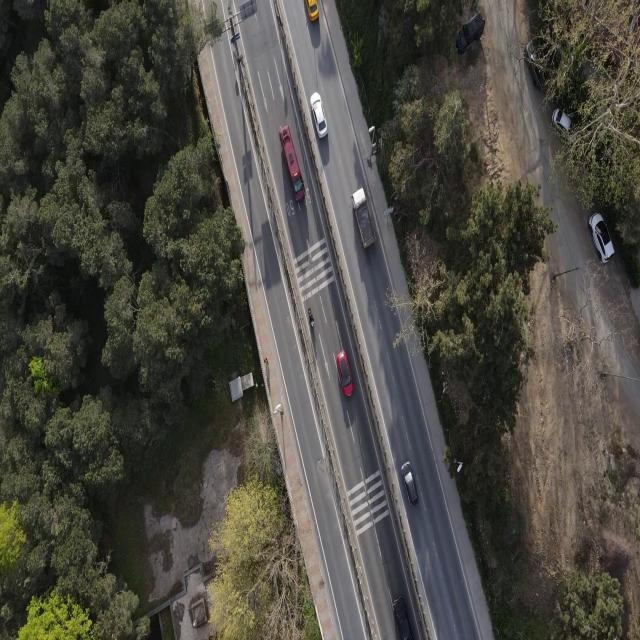p3rson: (264, 356, 269, 365)
